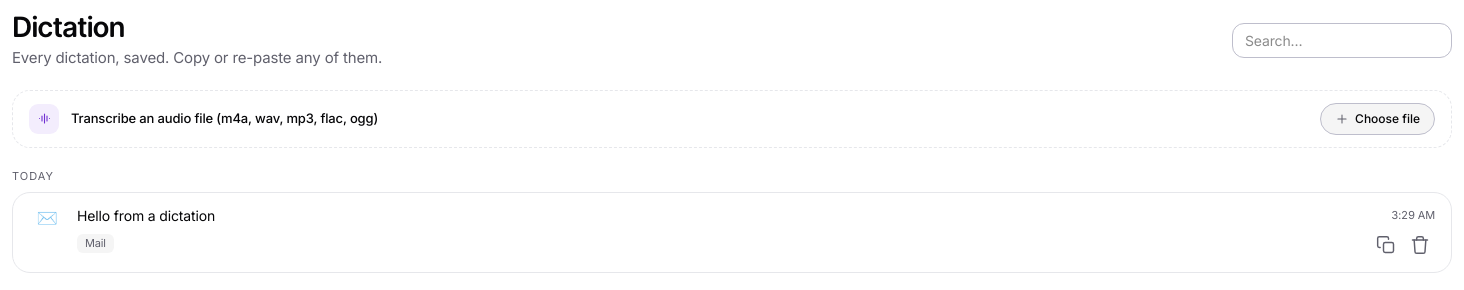
Test: DictationScreen copy (A-10) › shows Copy failed, not Copied, when the clipboard write rejects
Expected: the text "Hello from a dictation" is shown, [77, 207, 215, 224]
Click the button named "Copy to clipboard" at (1386,245), box [1371, 230, 1401, 260]
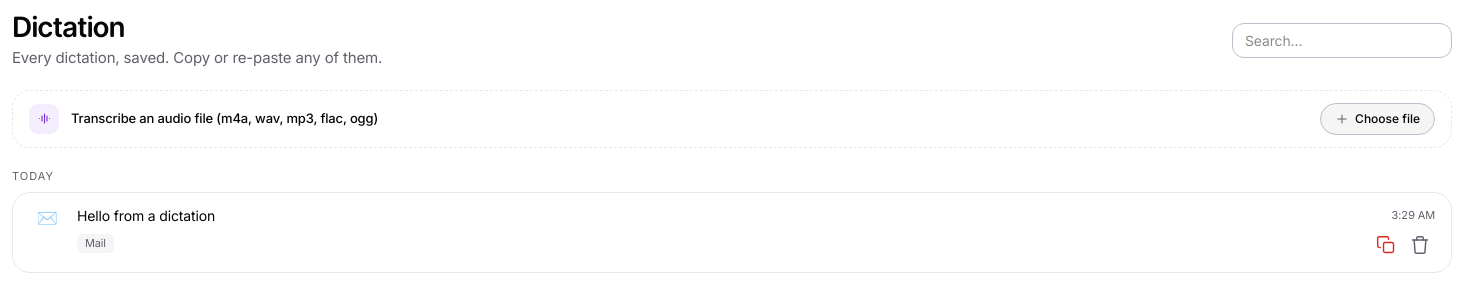
Now the button titled "Copy failed" is shown, box [1371, 230, 1401, 260]
